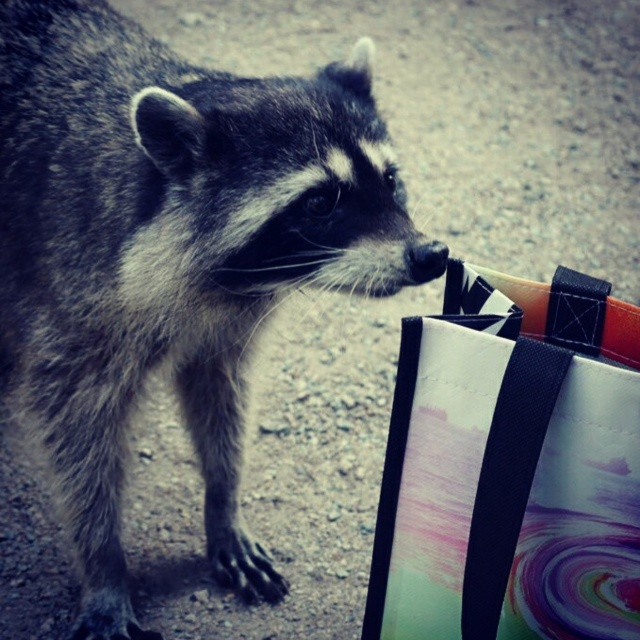Raccoon: (0, 0, 448, 639)
